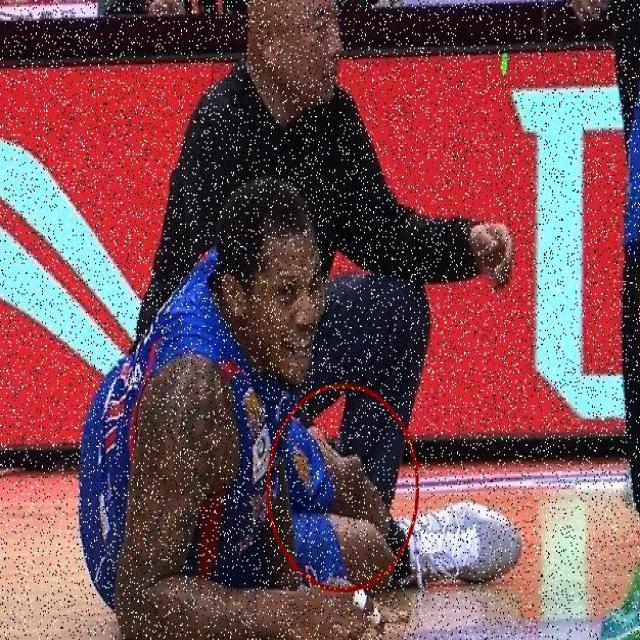fall: (76, 240, 477, 602)
